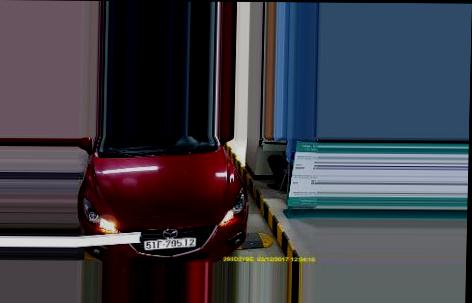License_Plate: (145, 238, 198, 252)
